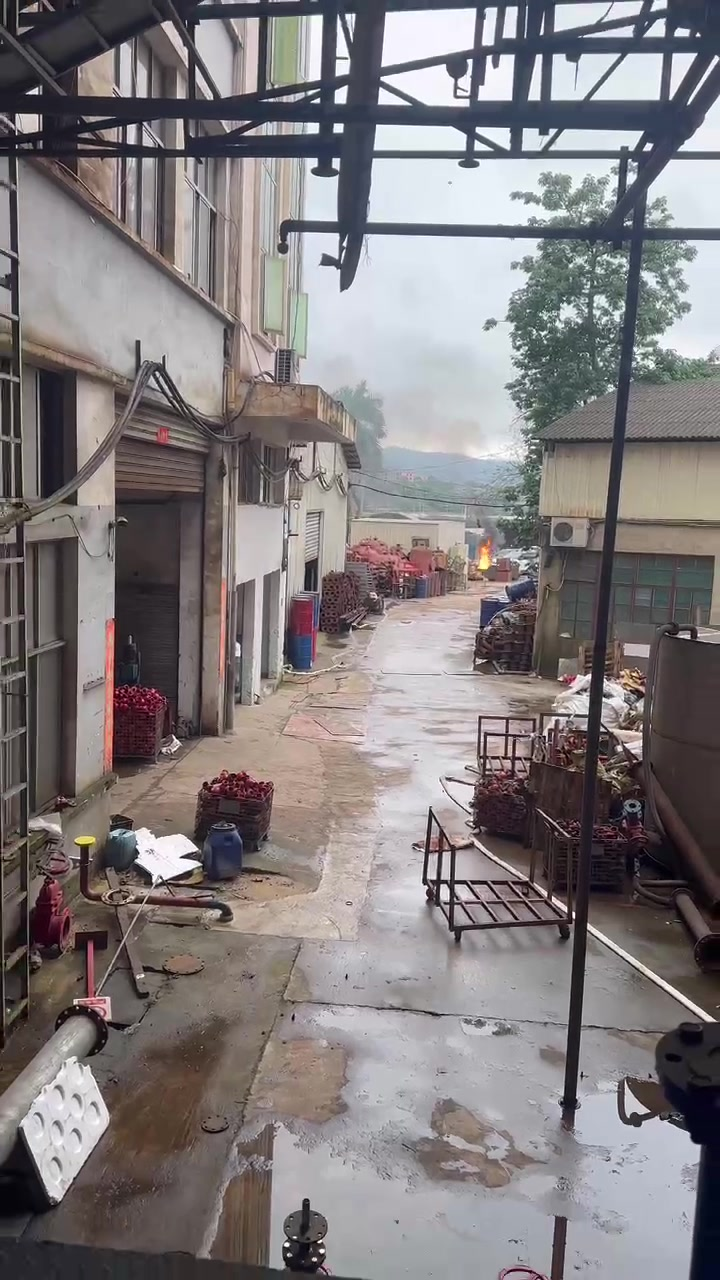fire: (477, 540, 490, 568)
